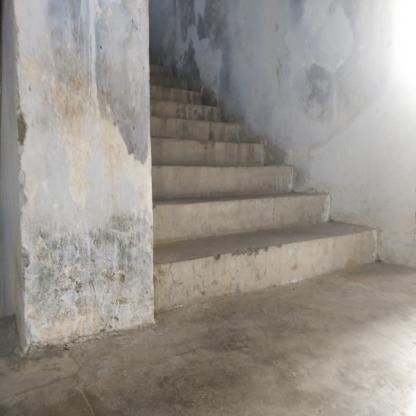stairs: (157, 167, 296, 316)
